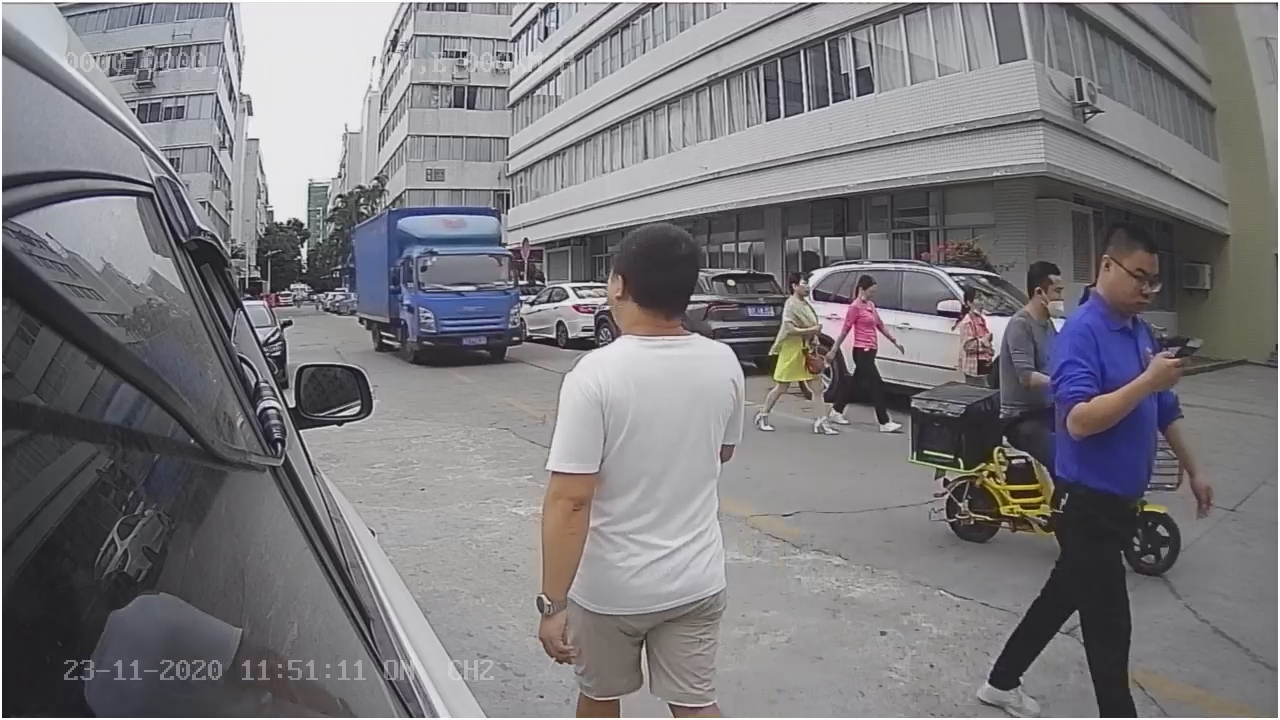person: (538, 226, 744, 554), (753, 263, 840, 441)
